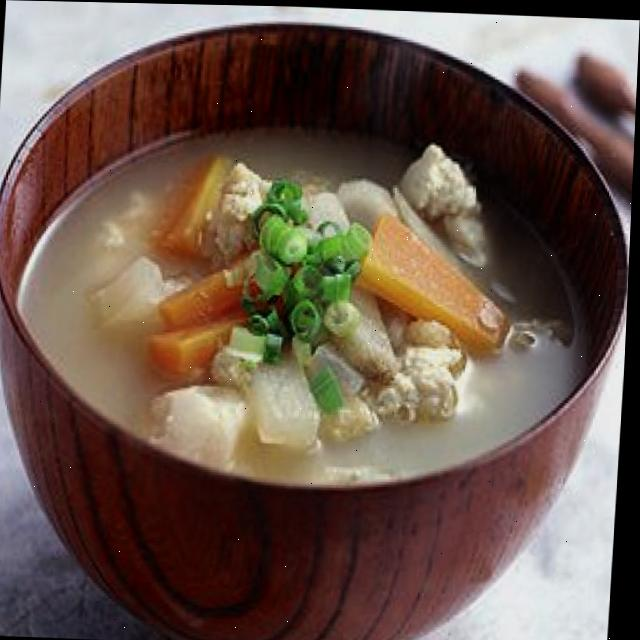蔬菜料理: (0, 18, 639, 518)
